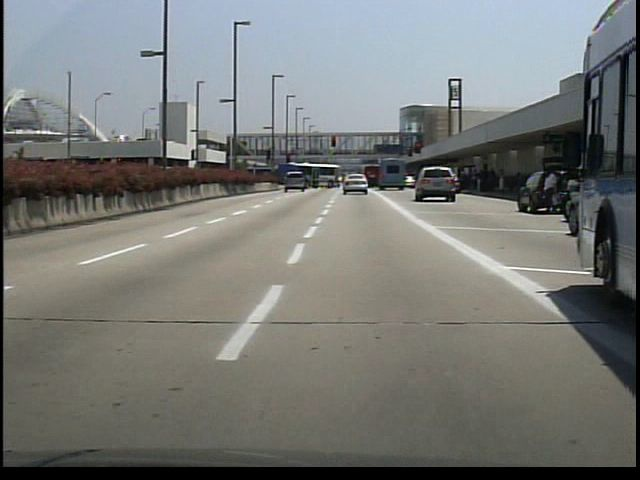person: (541, 167, 560, 211)
